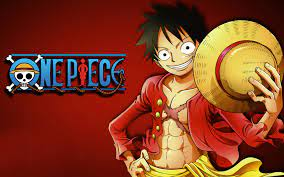Luffy: (146, 9, 213, 78)
